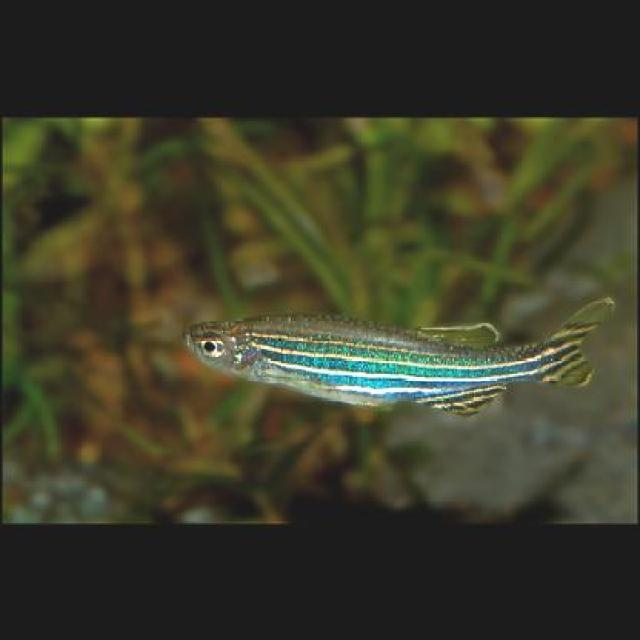ZebraFish: (180, 295, 617, 416)
